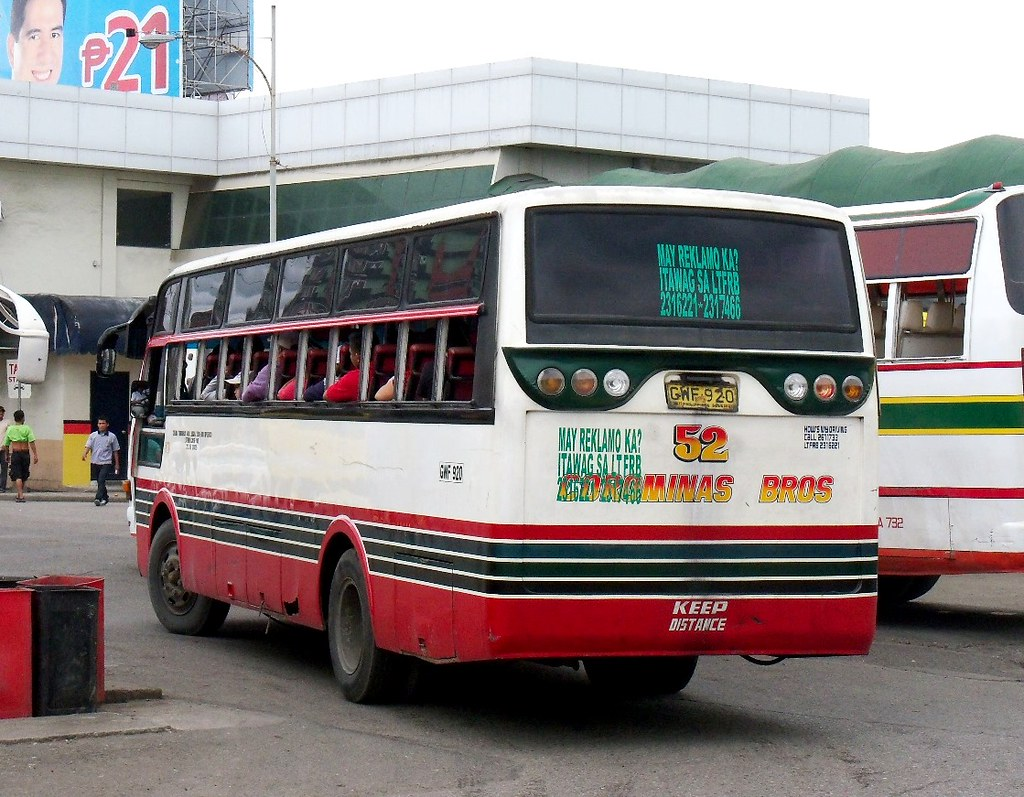bus: (127, 193, 882, 710), (861, 188, 1024, 569)
person: (84, 419, 120, 506), (9, 412, 37, 504)
pole: (270, 5, 277, 243)
